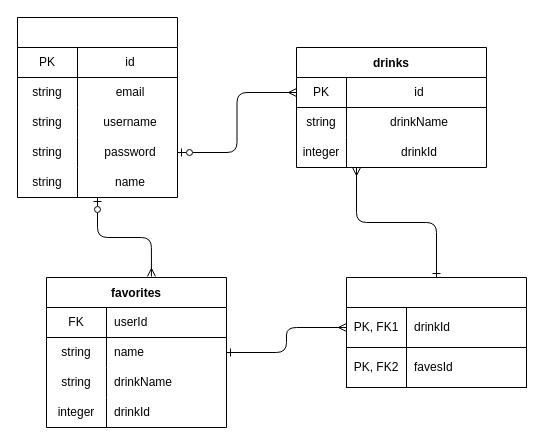
Some shapes in this 544 by 445 pixel diagram are drawn without their labels. The box of each missing label's shape, as (x1, y1, x2, y2) in pixels:
drinks_faves: (346, 276, 526, 388)
users: (16, 16, 178, 198)
